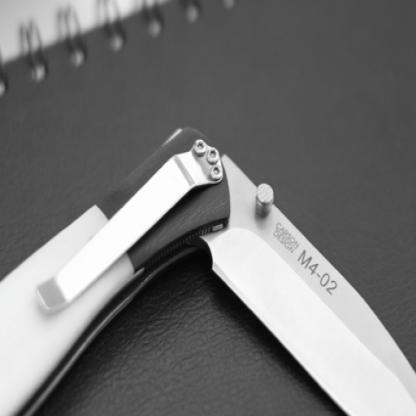knife: (0, 122, 415, 414)
